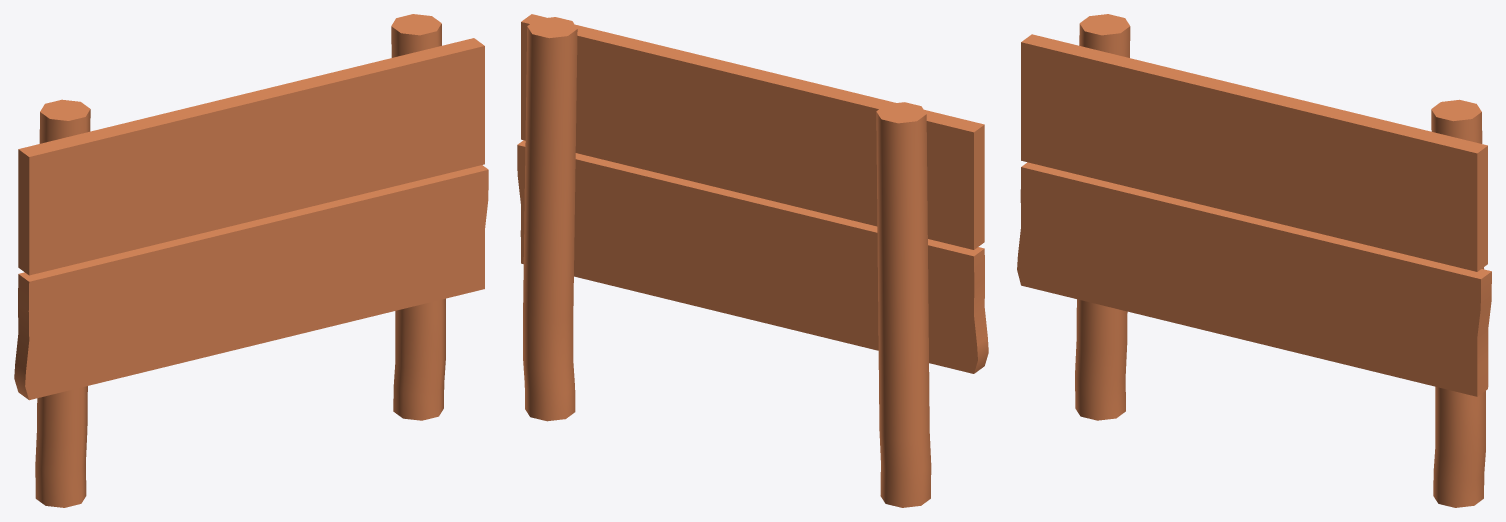
The model's file is kanban.fbx.
3 views of the same model, side by side, from view 1: azimuth 30°, elevation 25°; view 2: azimuth 150°, elevation 25°; view 3: azimuth 330°, elevation 25° (orthographic).
Parts seen in each view (by area): view 1: Kanban; view 2: Kanban; view 3: Kanban.
Boxes of the visible parts, x1=… form: Kanban: x1=14, y1=14, x2=488, y2=507; Kanban: x1=517, y1=14, x2=988, y2=507; Kanban: x1=1017, y1=14, x2=1491, y2=507.
Bounding box in the file's own units: 2.03 × 1.62 × 0.2709.
